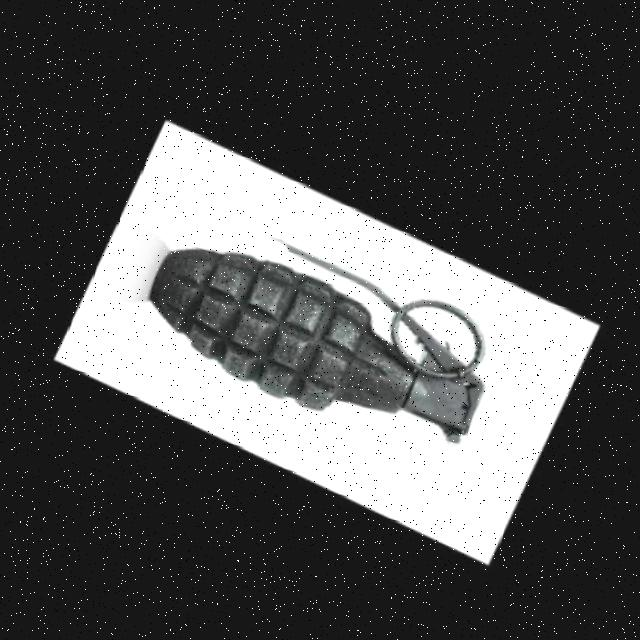grenade: (91, 160, 565, 503)
